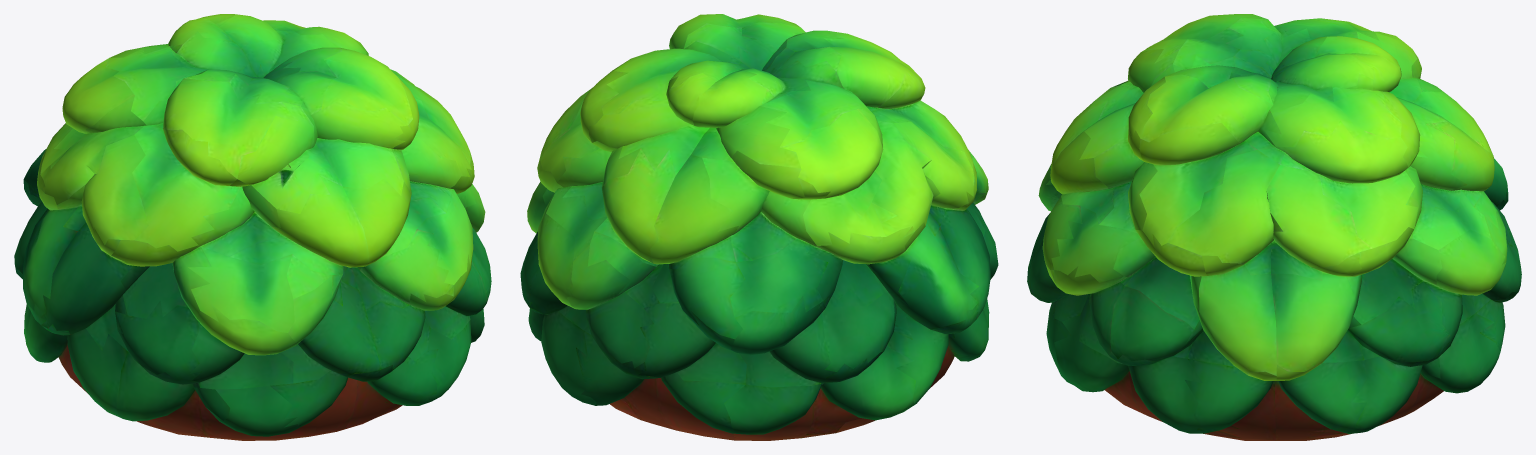
Rendered from la_arbusto.glb.
The picture shows the model from 3 angles, left to right: view 1: azimuth 30°, elevation 25°; view 2: azimuth 150°, elevation 25°; view 3: azimuth 270°, elevation 25°; orthographic projection.
Bounding box in the file's own units: 1 × 0.7461 × 0.998.
1 material, 1 textured.
